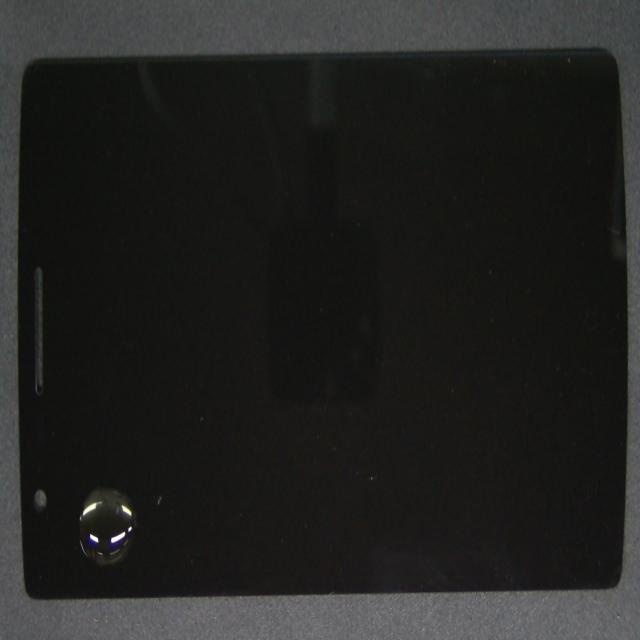oil: (89, 264, 189, 640)
